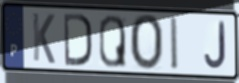D: (62, 11, 94, 68)
I: (169, 15, 180, 72)
J: (203, 20, 228, 71)
K: (31, 11, 56, 66)
O: (128, 13, 165, 73)
Q: (98, 14, 128, 70)
